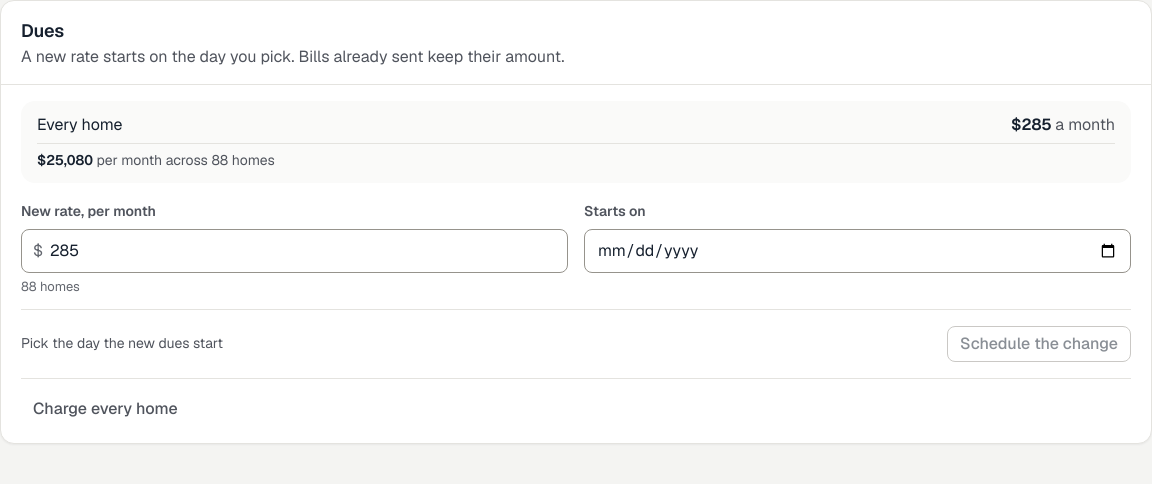
Test: a home's own dues in the browser copy › the association rate field refuses what the home form refuses
The width and height of the screenshot is (1152, 484).
Type "2026-09-19" into the date field named "The day the new dues start" at (858, 251), box [584,229,1131,273]
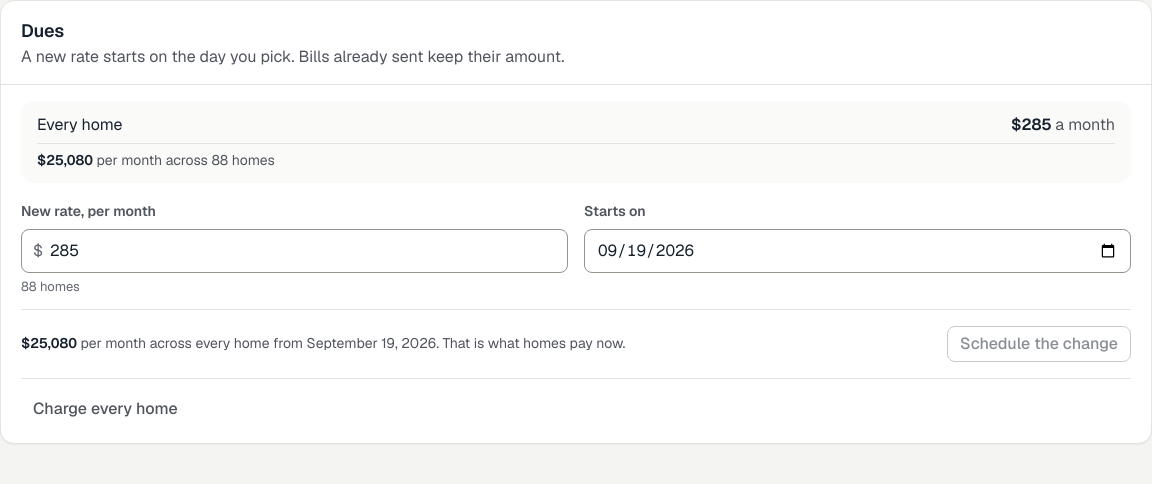
Replace the text in the number field labelled "New rate, per month $ 88 homes" with "99999999" at (294, 251), box [21,229,568,273]
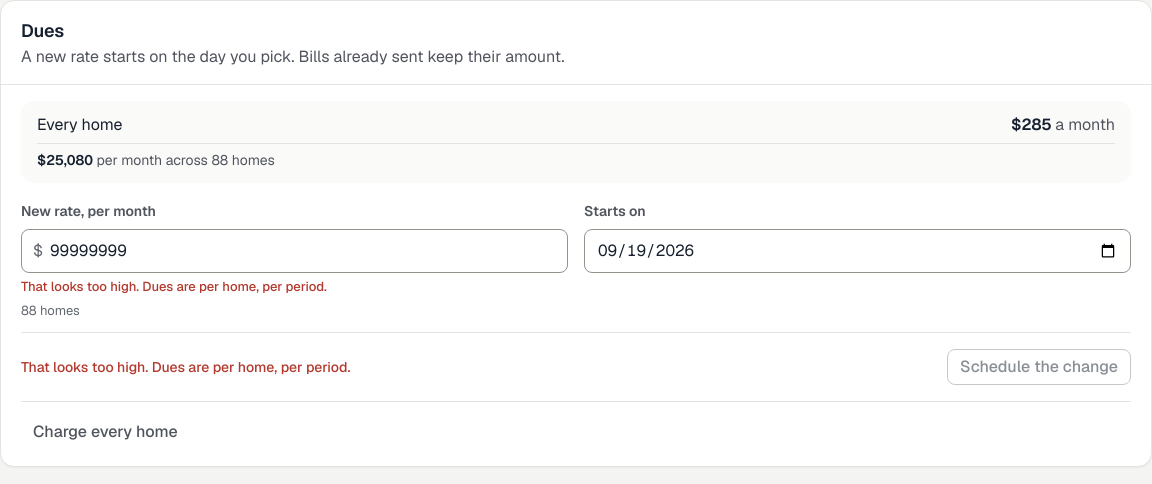
expect the button "Schedule the change" is disabled: met, box [947,349,1131,385]
Replace the text in the number field labelled "New rate, per month" with "285.555" at (294, 251), box [21,229,568,273]
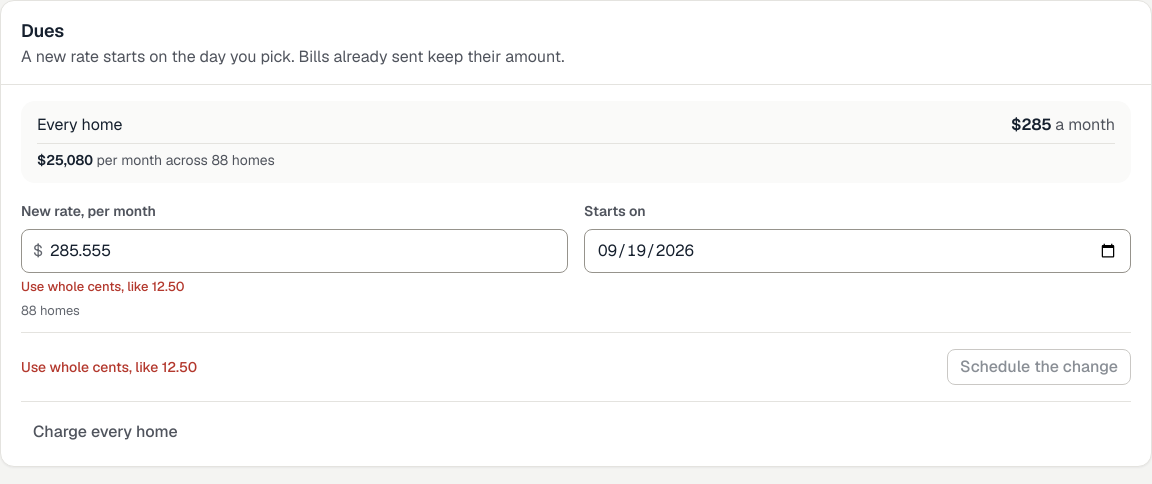
expect the button "Schedule the change" is disabled: met, box [947,349,1131,385]
Replace the text in the number field labelled "New rate, per month $ Use whole cents, like 12.50 88 homes" with "12e3" at (294, 251), box [21,229,568,273]
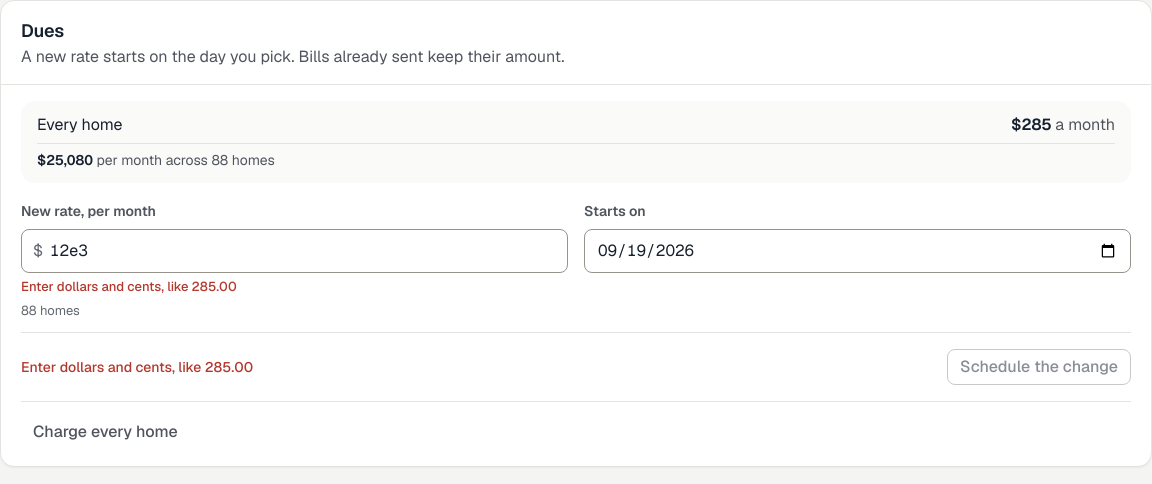
expect the button "Schedule the change" is disabled: met, box [947,349,1131,385]
Replace the text in the number field labelled "New rate, per month" with "290" at (294, 251), box [21,229,568,273]
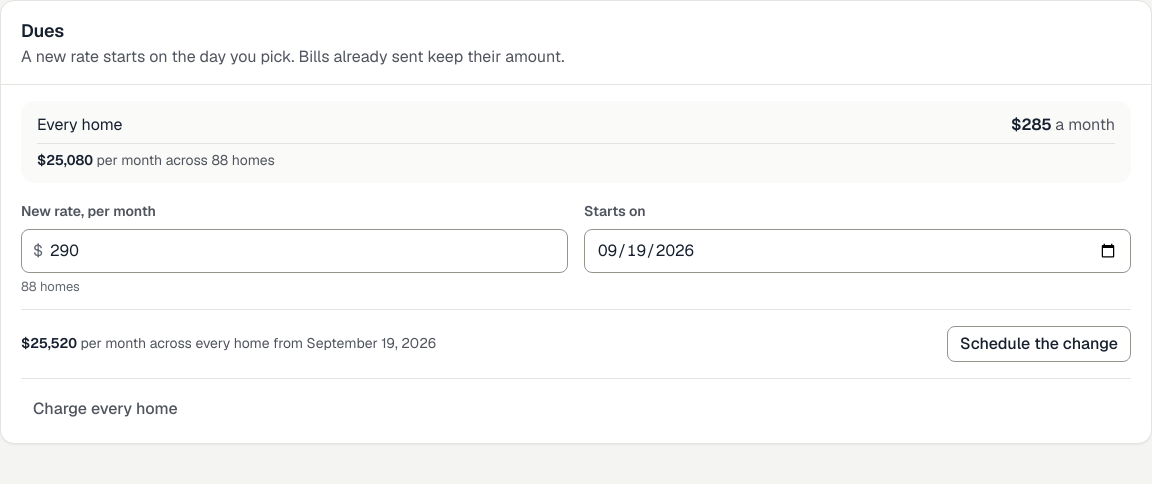
expect the button "Schedule the change" is enabled: met, box [947,326,1131,362]
